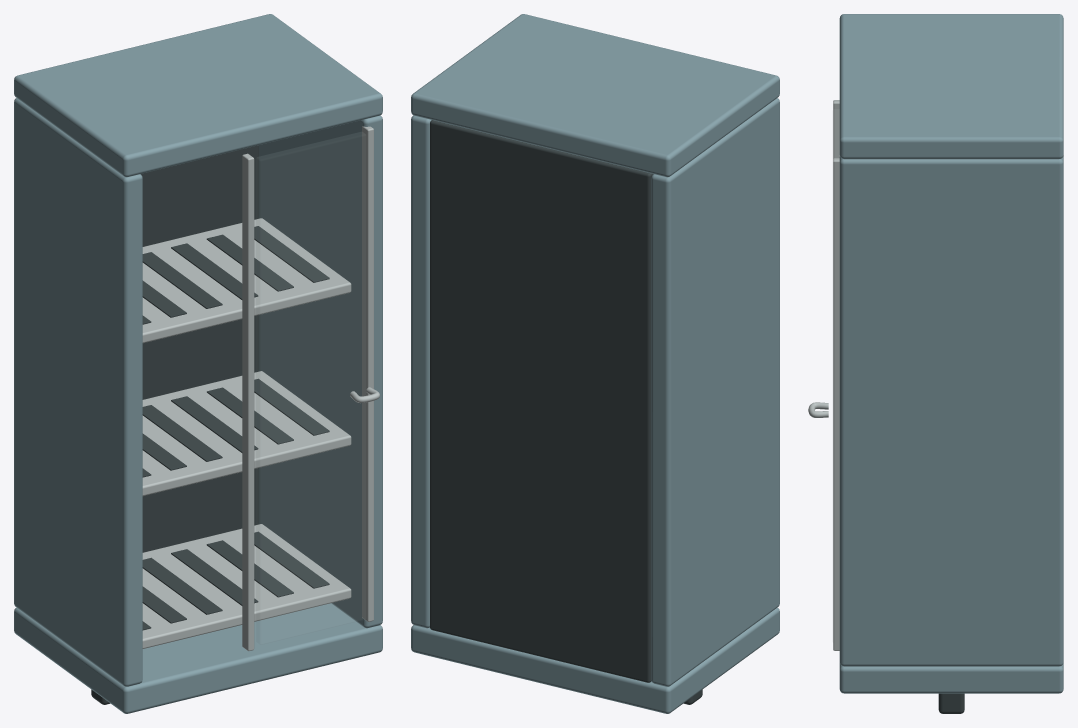
Rendered from abandoned-tidal-model-testing-hall-instrument-drying-c-a3582416__32369.glb.
The picture shows the model from 3 angles, left to right: view 1: azimuth 30°, elevation 25°; view 2: azimuth 150°, elevation 25°; view 3: azimuth 270°, elevation 25°; orthographic projection.
Parts seen in each view (by area): view 1: instrument-drying-cabinet; view 2: instrument-drying-cabinet; view 3: instrument-drying-cabinet.
Boxes of the visible parts, x1,y1,x2,y2 form: instrument-drying-cabinet: (14,14,382,713); instrument-drying-cabinet: (411,14,779,713); instrument-drying-cabinet: (808,14,1063,713).
Bounding box in the file's own units: 0.7999 × 1.75 × 0.684.
